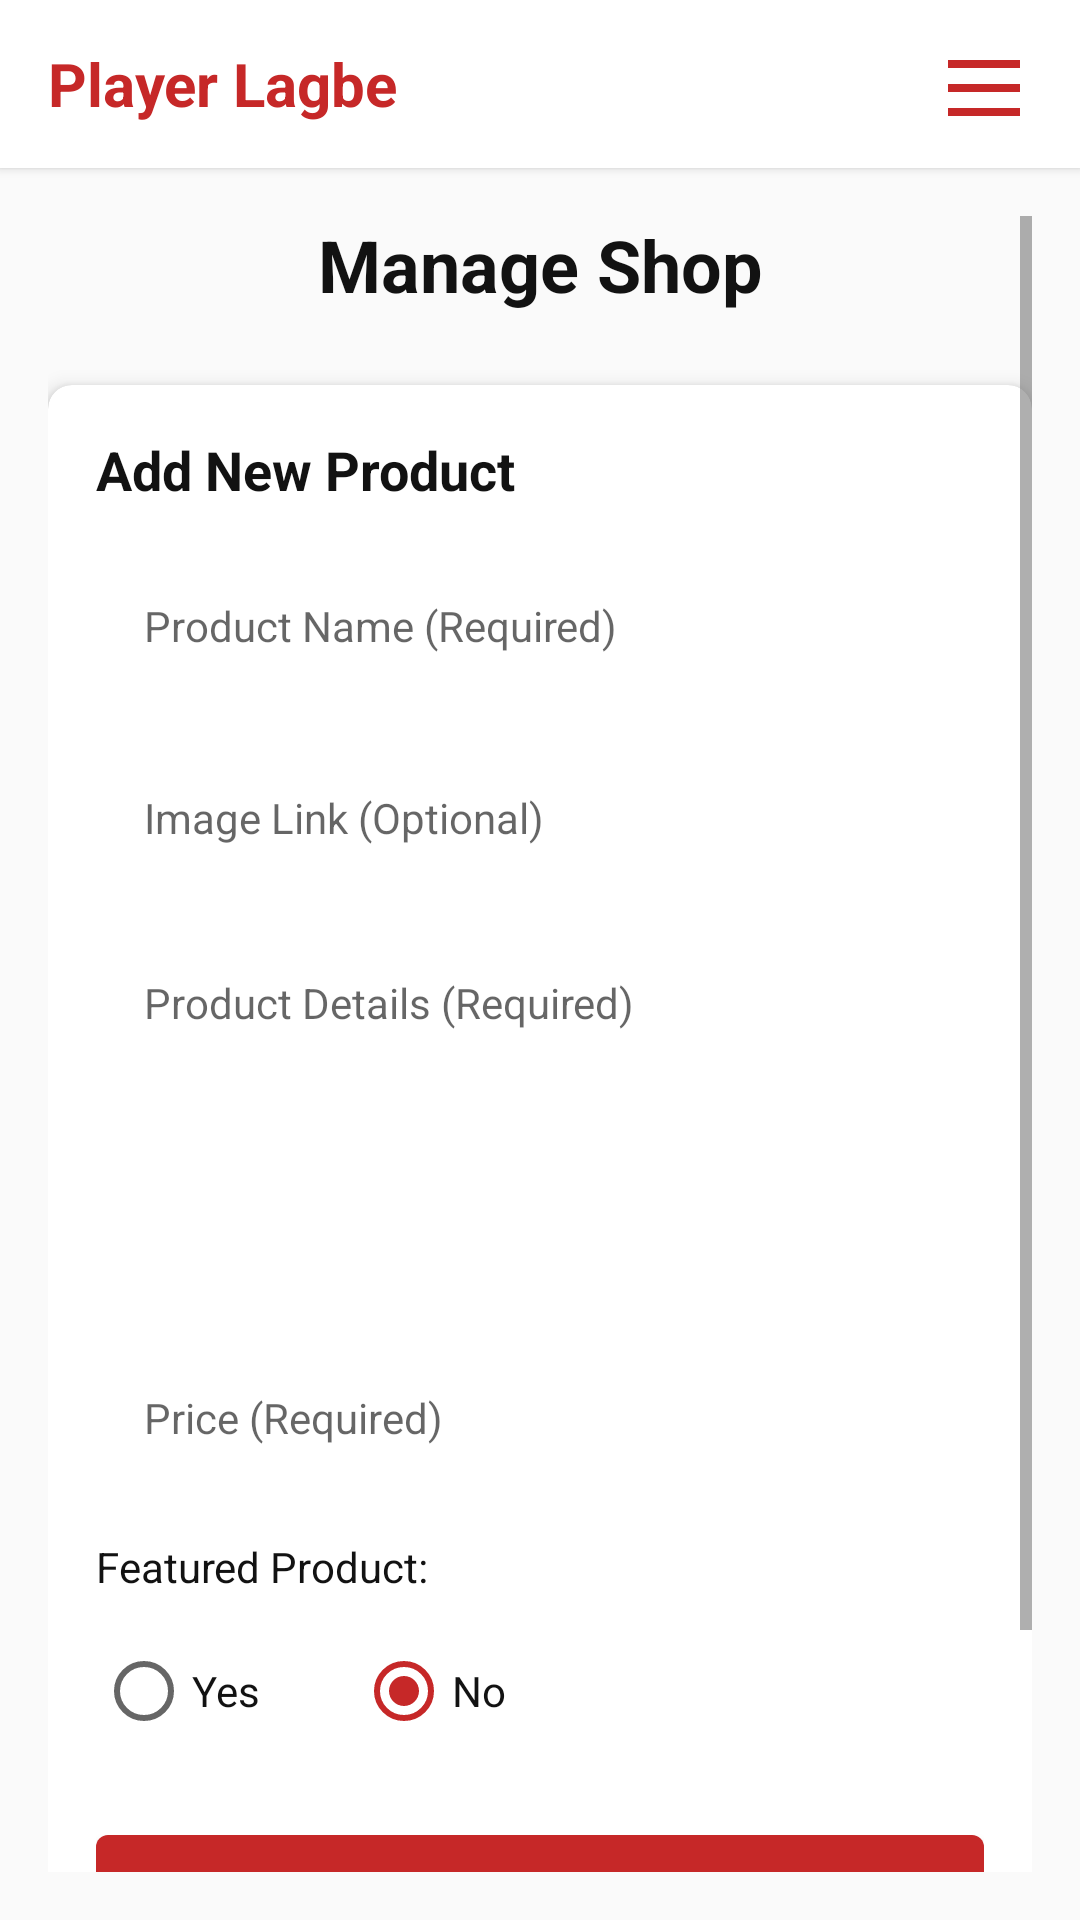

Where icons sit on this 1080x1920 app screen, as bbox(x1, y1, x2, y2):
Menu: bbox(948, 60, 1020, 116)
